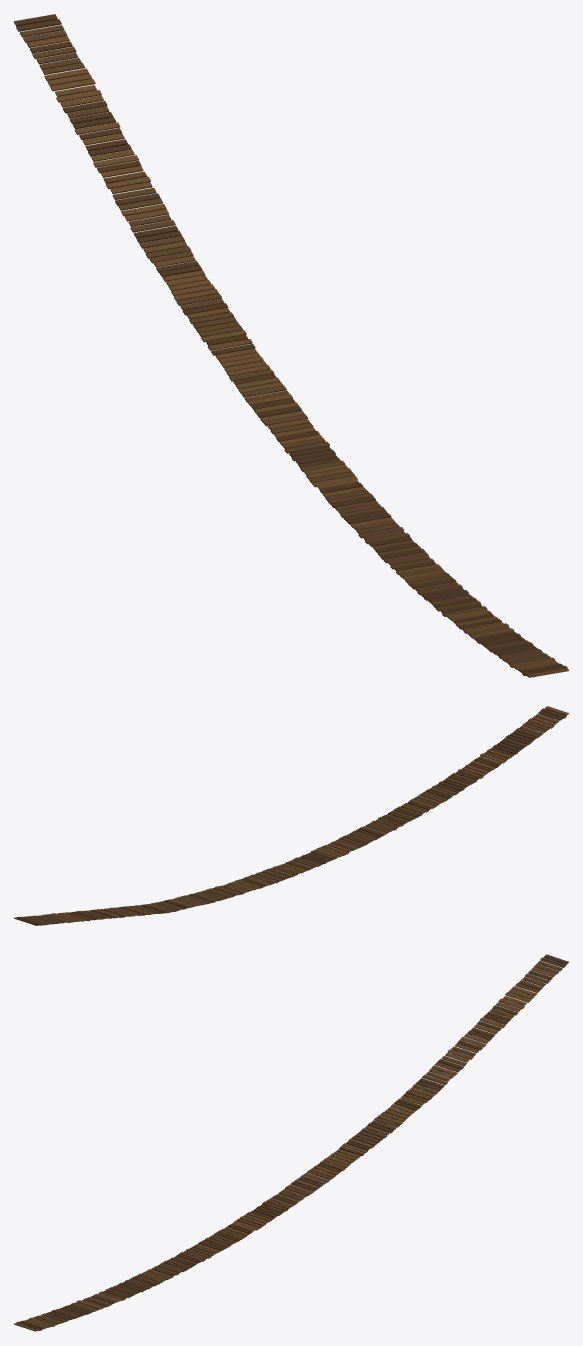
Rendered from SM_Bridge_06_07.fbx.
3 renders of one model, top to bottom at view 1: azimuth 30°, elevation 25°; view 2: azimuth 150°, elevation 25°; view 3: azimuth 330°, elevation 25°, orthographic. The views are drawn at different scales.
Parts seen in each view (by area): view 1: SM_Bridge_06_07; view 2: SM_Bridge_06_07; view 3: SM_Bridge_06_07.
Part boxes in pixels (x1,y1,x2,y2): SM_Bridge_06_07: (14, 14, 568, 677); SM_Bridge_06_07: (14, 706, 568, 925); SM_Bridge_06_07: (14, 954, 568, 1331).
Size of the model in its own units: 11.75 by 8.92 by 69.71.
